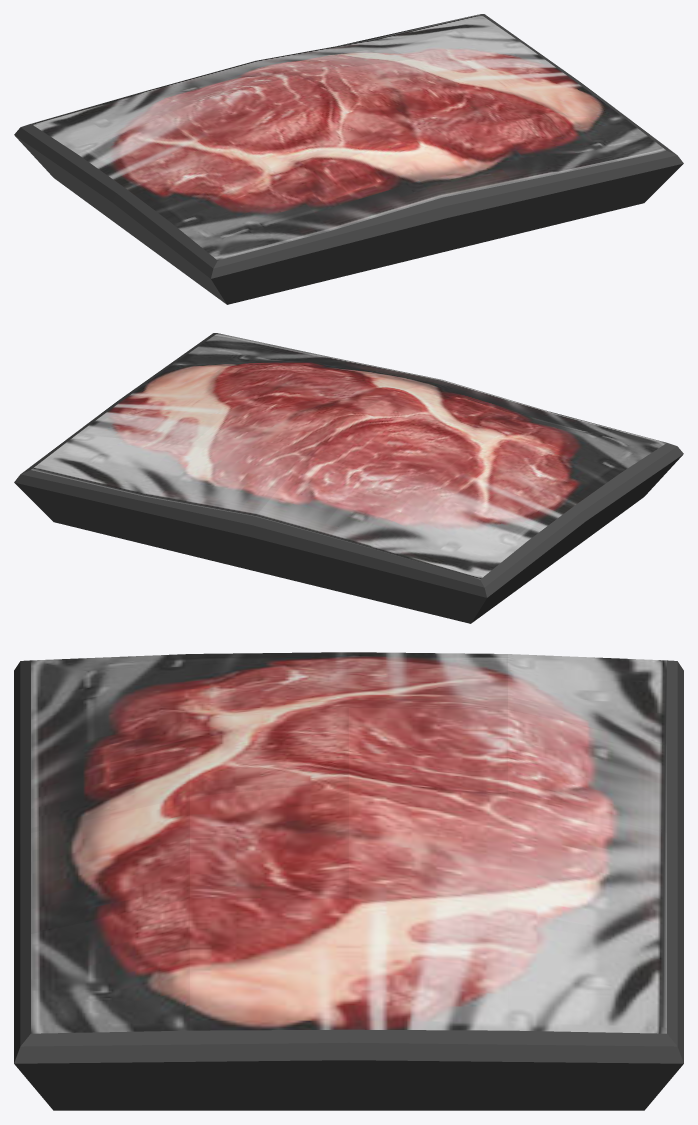
The model's file is Steak.fbx.
3 renders of one model, top to bottom at view 1: azimuth 30°, elevation 25°; view 2: azimuth 150°, elevation 25°; view 3: azimuth 270°, elevation 25°, orthographic. The views are drawn at different scales.
Visible parts, largest first — view 1: Ground Beef.001; view 2: Ground Beef.001; view 3: Ground Beef.001.
Boxes of the visible parts, <box> form: Ground Beef.001: <box>14,14,683,304</box>; Ground Beef.001: <box>14,333,683,623</box>; Ground Beef.001: <box>14,652,683,1110</box>.
Size of the model in its own units: 60.38 by 12.67 by 43.5.
2 materials, 1 textured.
